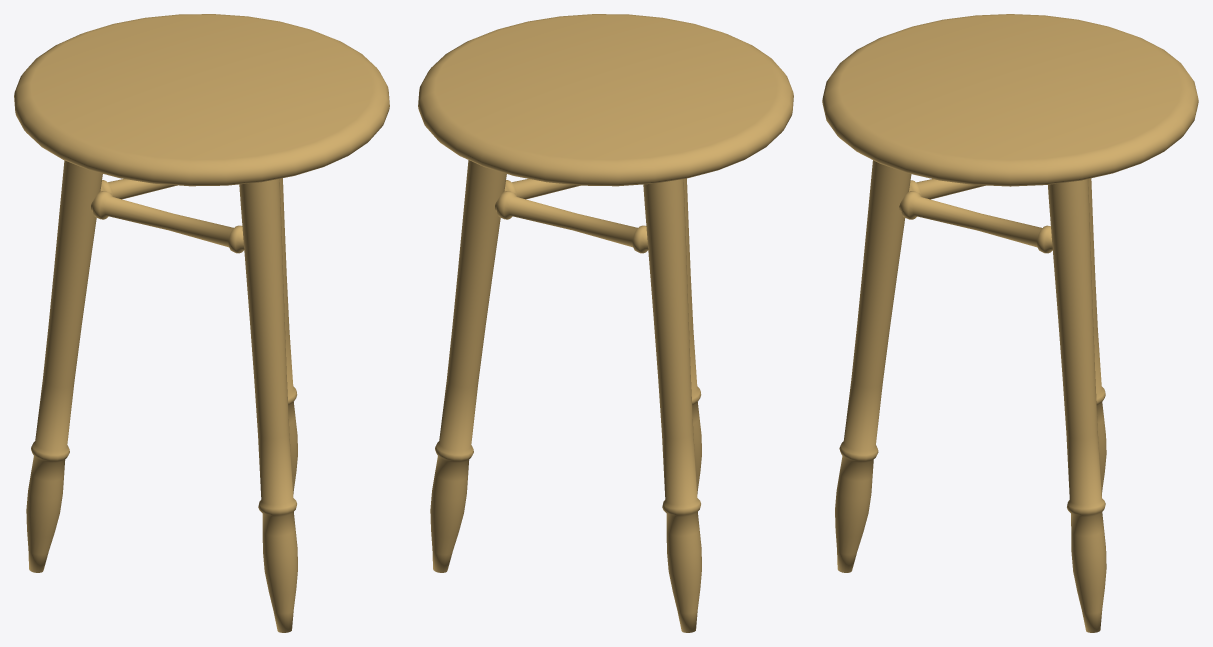
File: stool.gltf
3 renders of one model, left to right at view 1: azimuth 30°, elevation 25°; view 2: azimuth 150°, elevation 25°; view 3: azimuth 270°, elevation 25°, orthographic.
Visible parts, largest first — view 1: Circle.002, Circle.003, Circle.004, Circle.008, Circle.005, Circle.007; view 2: Circle.002, Circle.004, Circle.005, Circle.007, Circle.003, Circle.006; view 3: Circle.002, Circle.005, Circle.003, Circle.006, Circle.004, Circle.008.
Boxes of the visible parts, box(x1,y1,x2,y2) form: Circle.002: box(14, 14, 389, 186); Circle.003: box(239, 179, 297, 632); Circle.004: box(26, 160, 102, 572); Circle.008: box(91, 191, 244, 253); Circle.005: box(279, 178, 297, 493); Circle.007: box(100, 179, 177, 199); Circle.002: box(418, 14, 793, 186); Circle.004: box(643, 179, 701, 632); Circle.005: box(430, 160, 506, 572); Circle.007: box(495, 191, 648, 253); Circle.003: box(683, 178, 701, 493); Circle.006: box(504, 179, 580, 199); Circle.002: box(822, 14, 1198, 186); Circle.005: box(1048, 179, 1106, 632); Circle.003: box(835, 160, 911, 572); Circle.006: box(899, 191, 1052, 253); Circle.004: box(1088, 178, 1106, 495); Circle.008: box(909, 179, 985, 199).
Bounding box in the file's own units: 45.65 × 64.59 × 45.65.
